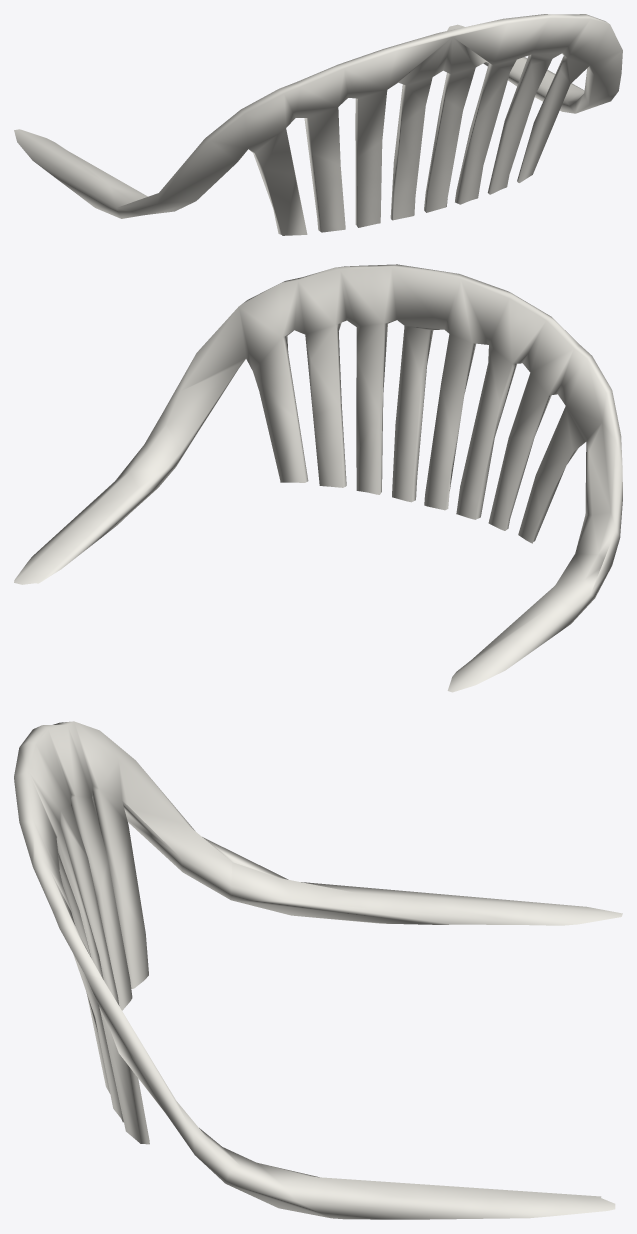
Rendered from vergil_chair_upper.obj.
3 renders of one model, top to bottom at view 1: azimuth 30°, elevation 25°; view 2: azimuth 150°, elevation 25°; view 3: azimuth 270°, elevation 25°, orthographic. The views are drawn at different scales.
Parts seen in each view (by area): view 1: vergil_chair; view 2: vergil_chair; view 3: vergil_chair.
Boxes of the visible parts, <box> form: vergil_chair: <box>14,14,622,235</box>; vergil_chair: <box>14,264,622,692</box>; vergil_chair: <box>14,721,622,1219</box>.
Bounding box in the file's own units: 0.8597 × 0.3538 × 0.6941.
